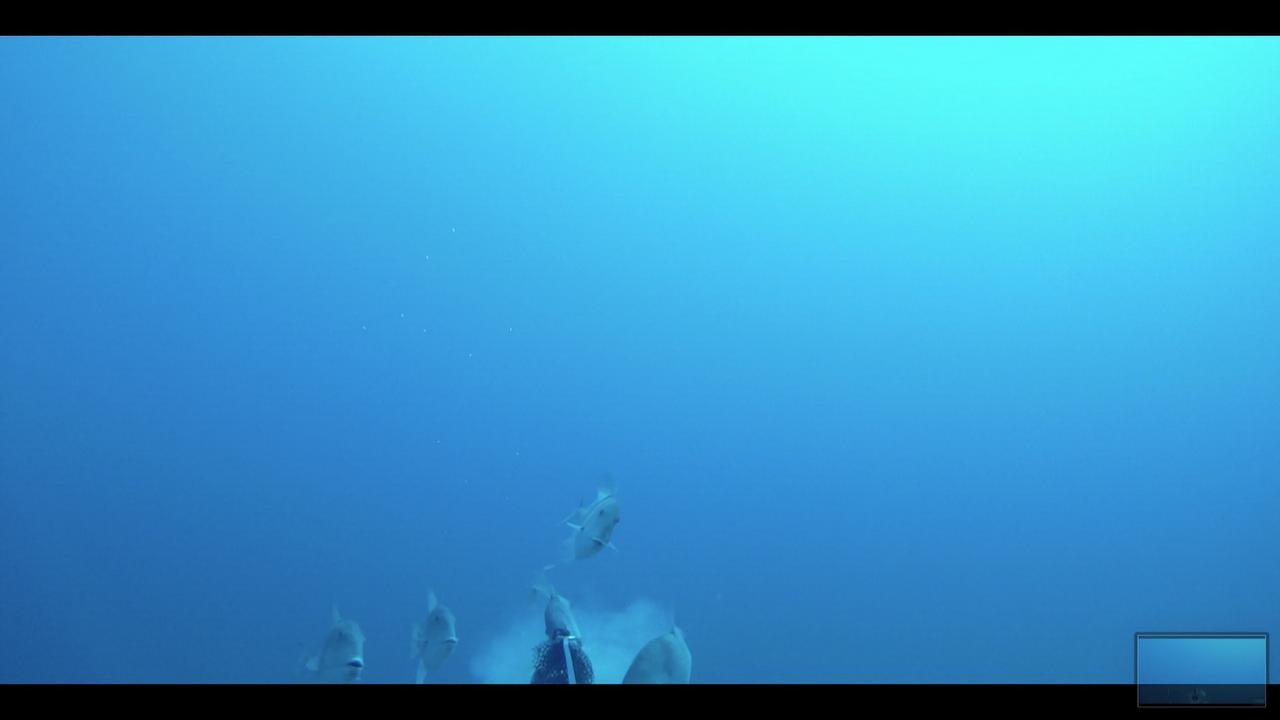balistes: (287, 593, 381, 681), (397, 582, 472, 680), (552, 481, 625, 573), (613, 619, 706, 683), (520, 584, 587, 646)
